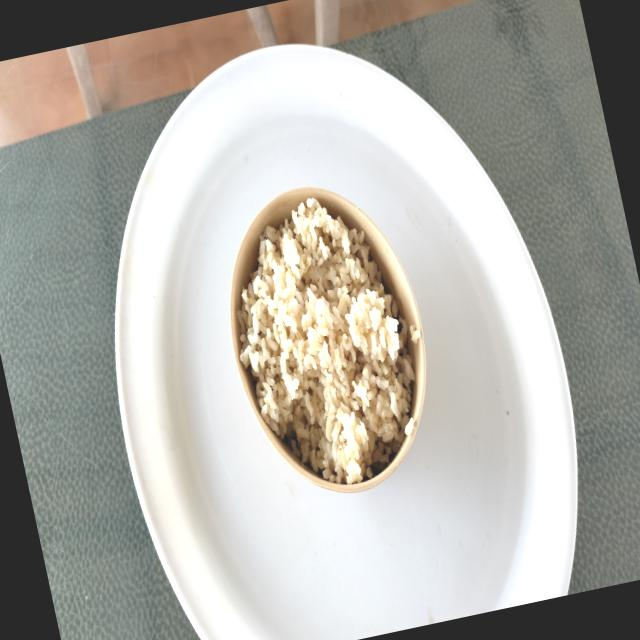brown-rice: (237, 198, 414, 485)
